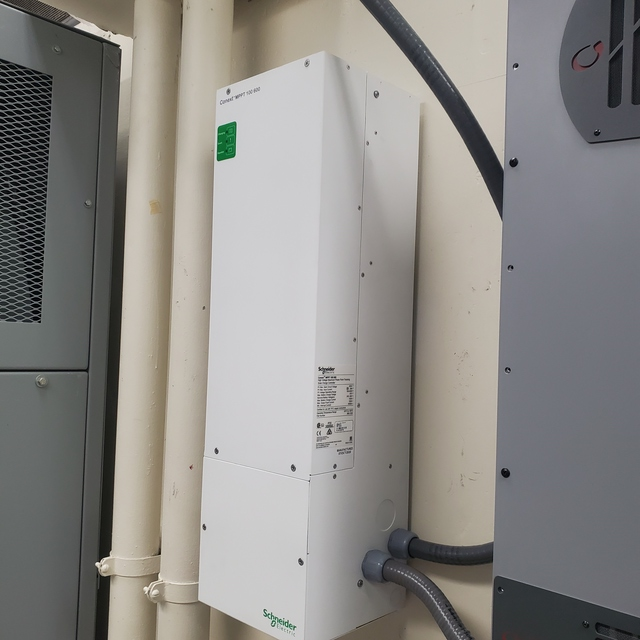charge_controller: (199, 50, 422, 640)
